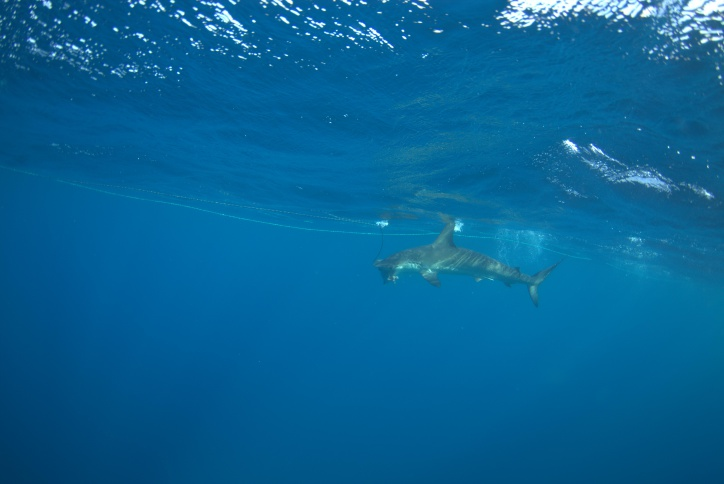Hammer: (183, 207, 446, 337)
